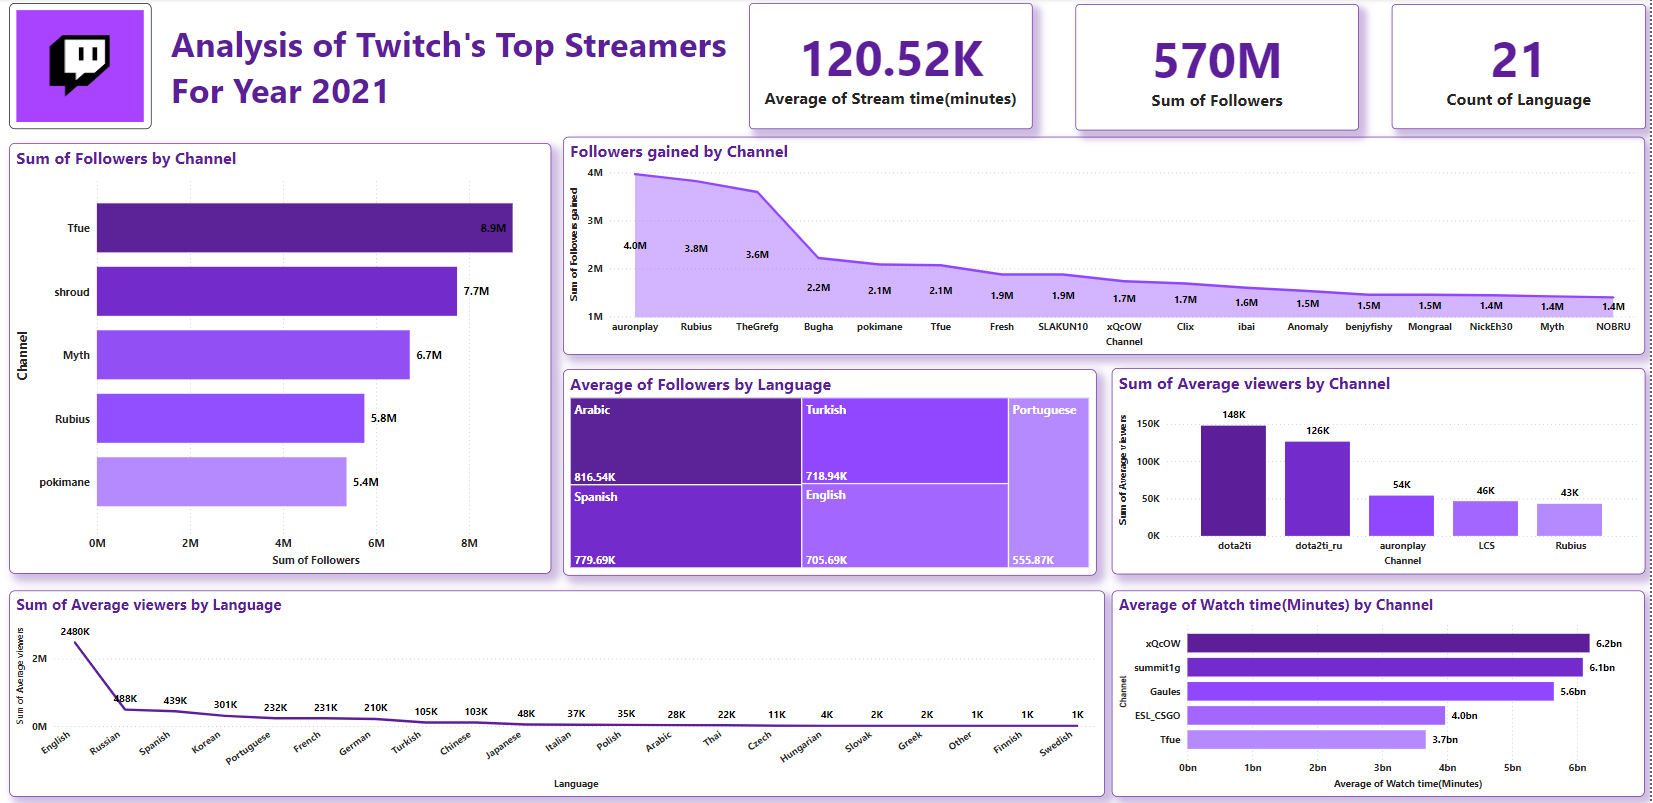

The dashboard page shown, as its layout file describes it:
{"tool":"powerbi","page":{"name":"Page 1","canvas":[2300,1500],"ordinal":0},"visuals":[{"type":"lollipopColumnChart0D874BBC87DE40189C387BBA89739F6C","fields":{"axis":["twitchdata-update.Language"],"values":["twitchdata-update.Average viewers"]},"box":[432.7,492.4,540.1,304.4],"z":0},{"type":"lollipopBarChart29115F0ADEDB437DBCDF8E8A3E66E088","fields":{"axis":["twitchdata-update.Channel"],"values":["twitchdata-update.Followers"]},"box":[432.7,862.4,540.1,477.5],"z":1000},{"type":"lollipopColumnChart0D874BBC87DE40189C387BBA89739F6C","fields":{"axis":["twitchdata-update.Channel"],"values":["twitchdata-update.Average viewers"]},"box":[1038.5,862.4,567,477.5],"z":2000},{"type":"tableEx","title":"Followers gained by Channel","fields":{"Values":["twitchdata-update.Channel","twitchdata-update.Followers gained","twitchdata-update.Watch time(Minutes)"]},"box":[1665.2,280.5,558,408.8],"z":3000},{"type":"lollipopBarChart29115F0ADEDB437DBCDF8E8A3E66E088","fields":{"axis":["twitchdata-update.Channel"],"values":["twitchdata-update.Watch time(Minutes)"]},"box":[1686,749,537.1,570],"z":4000},{"type":"donutChart","fields":{"Category":["twitchdata-update.Language"],"Y":["twitchdata-update.Followers"]},"box":[1038.5,492.4,567,304.4],"z":5000},{"type":"image","box":[155.2,29.8,176.1,158.2],"z":6000},{"type":"card","fields":{"Values":["twitchdata-update.Language"]},"box":[1038.5,280.5,283.5,155.2],"z":7000},{"type":"card","fields":{"Values":["twitchdata-update.Followers"]},"box":[432.7,280.5,232.8,155.2],"z":8000},{"type":"card","fields":{"Values":["twitchdata-update.Stream time(minutes)"]},"box":[734.1,280.5,238.7,155.2],"z":9000},{"type":"textbox","box":[405.8,122.4,659.5,128.3],"z":10000},{"type":"card","fields":{"Values":["twitchdata-update.Channel"]},"box":[1369.7,286.5,256.6,149.2],"z":11000}]}

Visuals, with their boxes on the page's 2300x1500 design canvas (x1, y1, x2, y2). These are canvas units, not pixel positions in the 1653x803 screenshot, which may show the page scaled, cropped or inside an application window:
lollipopColumnChart0D874BBC87DE40189C387BBA89739F6C - twitchdata-update.Language x twitchdata-update.Average viewers: l=433, t=492, r=973, b=797
lollipopBarChart29115F0ADEDB437DBCDF8E8A3E66E088 - twitchdata-update.Channel x twitchdata-update.Followers: l=433, t=862, r=973, b=1340
lollipopColumnChart0D874BBC87DE40189C387BBA89739F6C - twitchdata-update.Channel x twitchdata-update.Average viewers: l=1038, t=862, r=1606, b=1340
"Followers gained by Channel" tableEx: l=1665, t=280, r=2223, b=689
lollipopBarChart29115F0ADEDB437DBCDF8E8A3E66E088 - twitchdata-update.Channel x twitchdata-update.Watch time(Minutes): l=1686, t=749, r=2223, b=1319
donutChart - twitchdata-update.Language x twitchdata-update.Followers: l=1038, t=492, r=1606, b=797
image: l=155, t=30, r=331, b=188
card - twitchdata-update.Language: l=1038, t=280, r=1322, b=436
card - twitchdata-update.Followers: l=433, t=280, r=666, b=436
card - twitchdata-update.Stream time(minutes): l=734, t=280, r=973, b=436
textbox: l=406, t=122, r=1065, b=251
card - twitchdata-update.Channel: l=1370, t=286, r=1626, b=436
